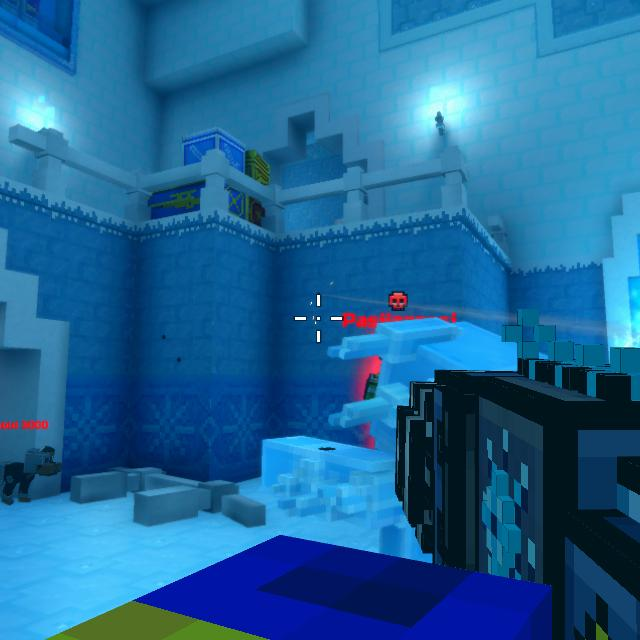Enemy: (363, 372, 379, 401)
